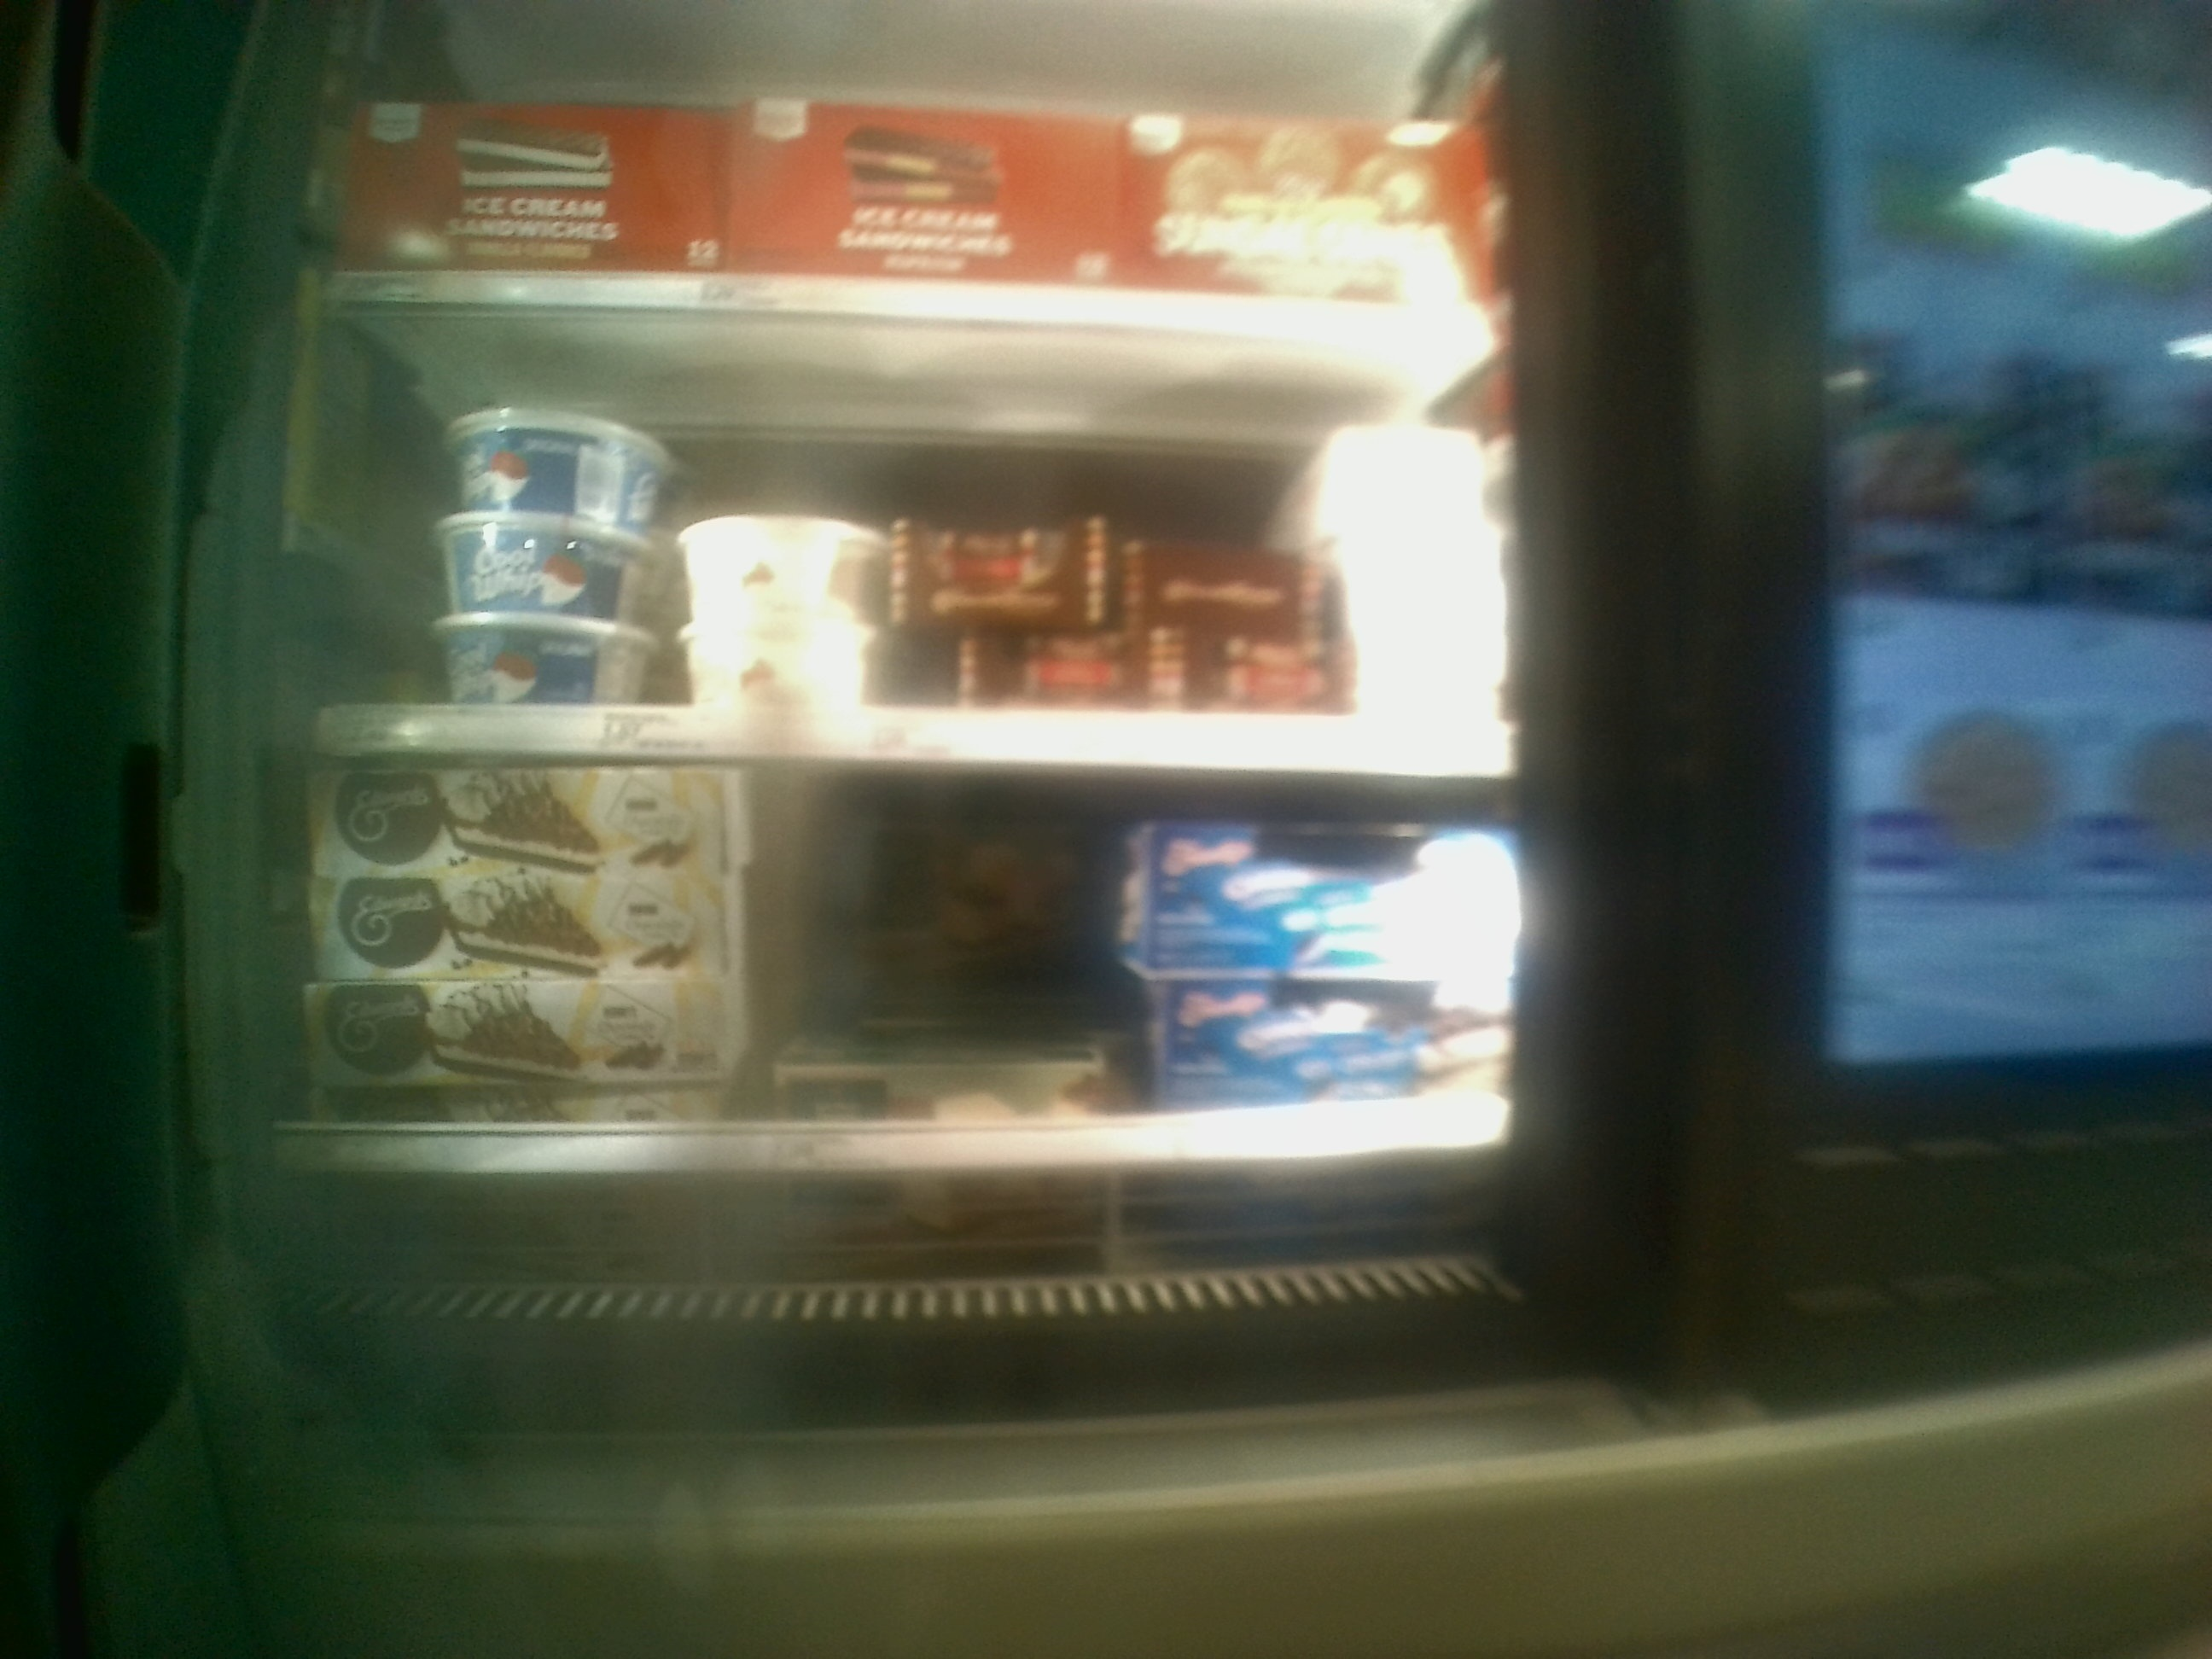frozen-food-shelf: (286, 340, 1524, 779), (265, 777, 1529, 1183)
